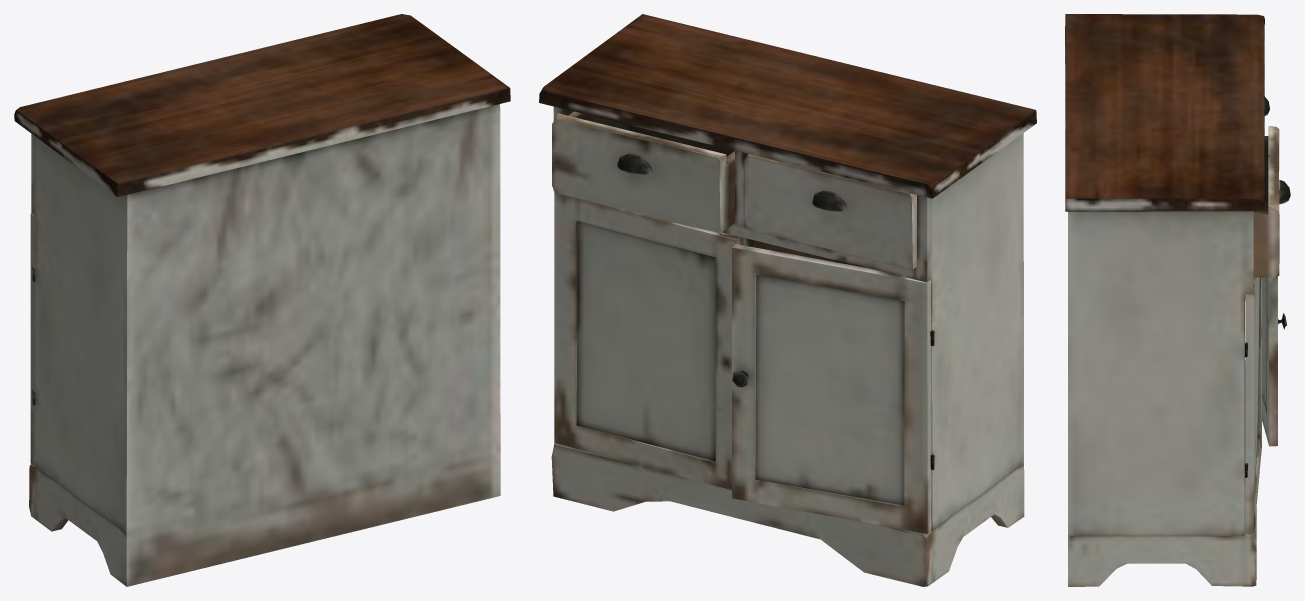
File: cabinet-painted.lod1.glb
The picture shows the model from 3 angles, left to right: view 1: azimuth 30°, elevation 25°; view 2: azimuth 150°, elevation 25°; view 3: azimuth 270°, elevation 25°; orthographic projection. The views are drawn at different scales.
Visible parts, largest first — view 1: cabinet-painted; view 2: cabinet-painted; view 3: cabinet-painted.
Boxes of the visible parts, left/top/right/bottom form: cabinet-painted: left=14, top=14, right=510, bottom=586; cabinet-painted: left=539, top=14, right=1036, bottom=586; cabinet-painted: left=1065, top=14, right=1290, bottom=586.
Bounding box in the file's own units: 1.19 × 1.18 × 0.6155.
Materials: 1 (1 with a texture image).
